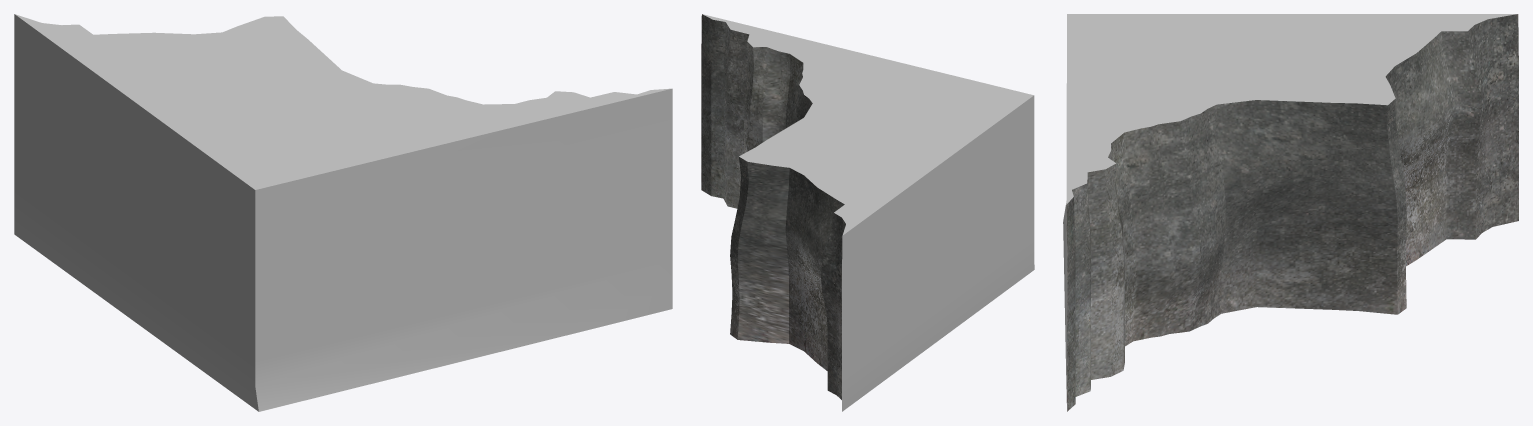
File: BrokenConcretePiece1.fbx
3 views of the same model, side by side, from view 1: azimuth 30°, elevation 25°; view 2: azimuth 150°, elevation 25°; view 3: azimuth 270°, elevation 25° (orthographic). The views are drawn at different scales.
Parts seen in each view (by area): view 1: ConcreteBlockBrokenPiece2; view 2: ConcreteBlockBrokenPiece2; view 3: ConcreteBlockBrokenPiece2.
Boxes of the visible parts, <box> form: ConcreteBlockBrokenPiece2: <box>14,14,672,411</box>; ConcreteBlockBrokenPiece2: <box>701,14,1034,411</box>; ConcreteBlockBrokenPiece2: <box>1063,14,1518,411</box>.
Size of what is drawn, in the model's own units: 420 by 212 by 424.
